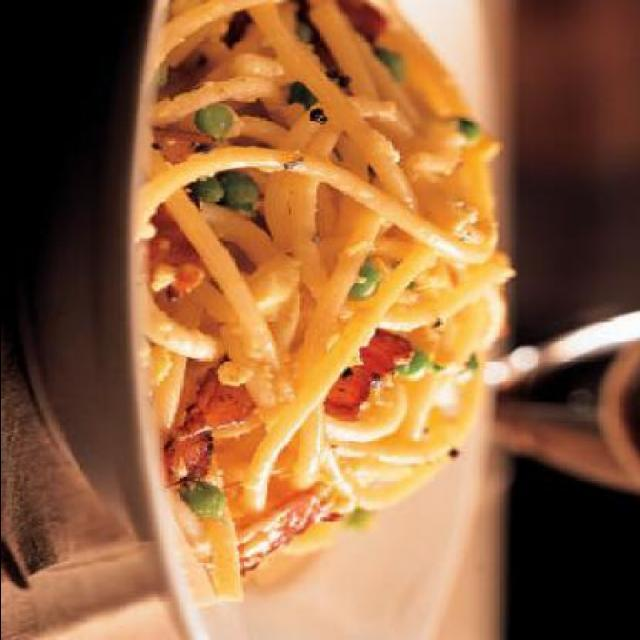Pasta with carbonara sauce: (105, 9, 533, 616)
